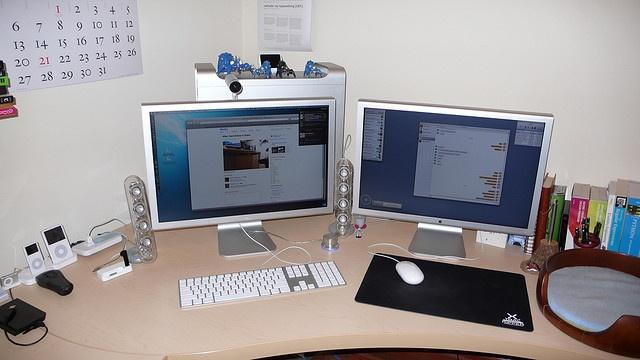AIO PC-Monitor-TV: (349, 97, 554, 237), (140, 94, 337, 230)
